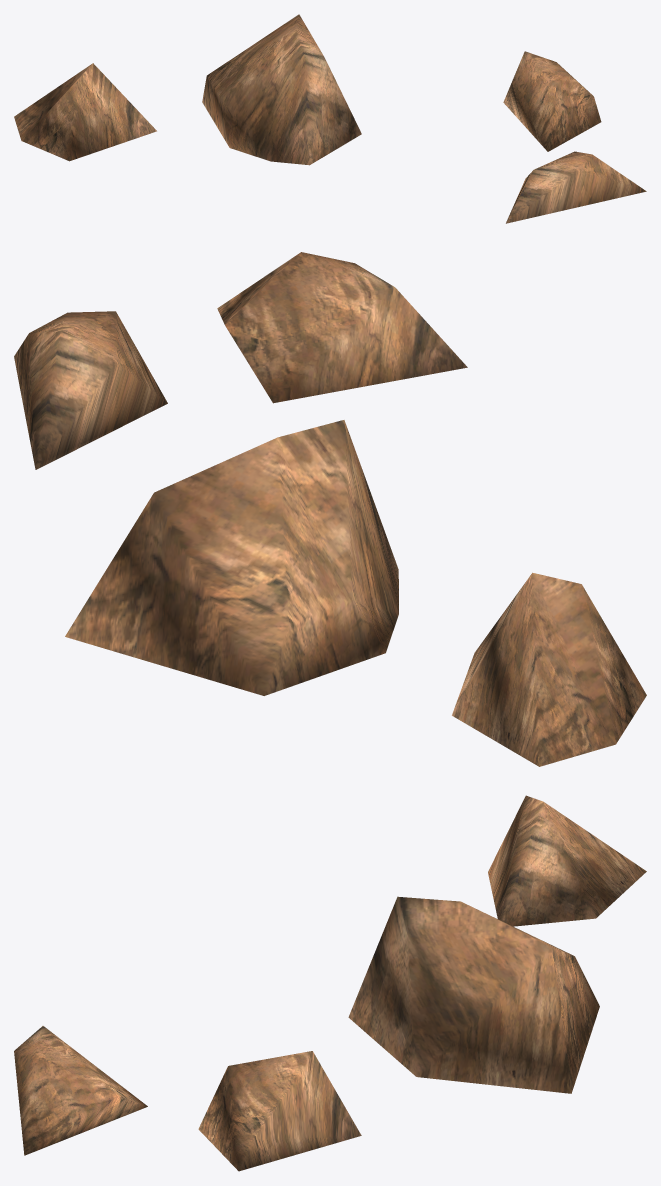
The model's file is rock_tatt_bensmesa_pebbles_l2.fbx.
3 views of the same model, one above another, from view 1: azimuth 30°, elevation 25°; view 2: azimuth 150°, elevation 25°; view 3: azimuth 270°, elevation 25° (orthographic). The views are drawn at different scales.
Visible parts, largest first — view 1: mesh_node; view 2: mesh_node; view 3: mesh_node.
Boxes of the visible parts, bbox=[...] form: mesh_node: bbox=[14, 14, 646, 223]; mesh_node: bbox=[14, 252, 646, 766]; mesh_node: bbox=[14, 795, 646, 1171].
Bounding box in the file's own units: 0.8359 × 0.1805 × 0.7294.
